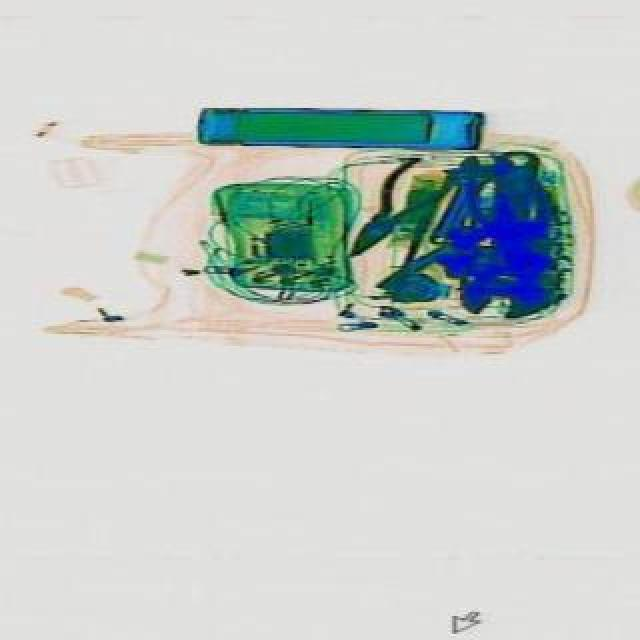scissors: (454, 150, 562, 324)
wrench: (324, 152, 452, 276)
